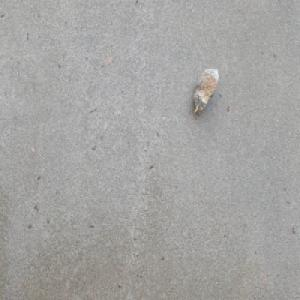Rock: (192, 65, 219, 117)
